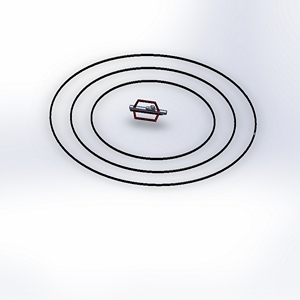circle: (43, 48, 261, 192)
submarine: (123, 92, 175, 131)
